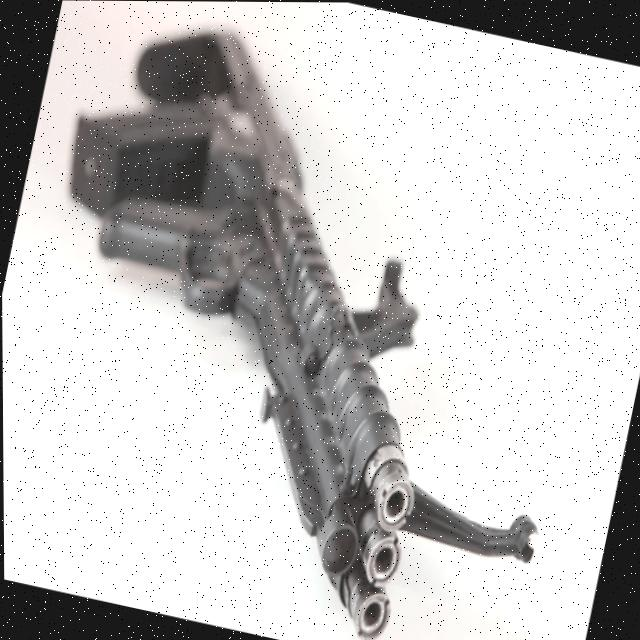firearm: (0, 0, 501, 640)
